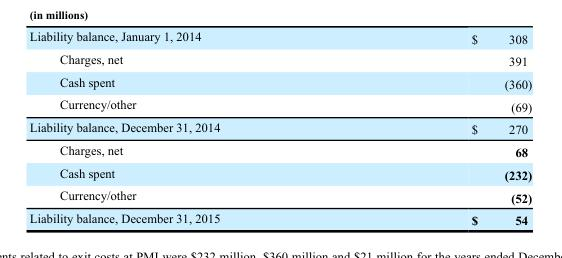table: (28, 28, 531, 227)
table column: (28, 28, 345, 227), (345, 28, 531, 227)
table row: (28, 48, 531, 71), (28, 93, 531, 116), (28, 116, 531, 139), (28, 139, 531, 162), (28, 184, 531, 207), (28, 71, 531, 93), (28, 162, 531, 184), (28, 28, 531, 48), (28, 207, 531, 227)
